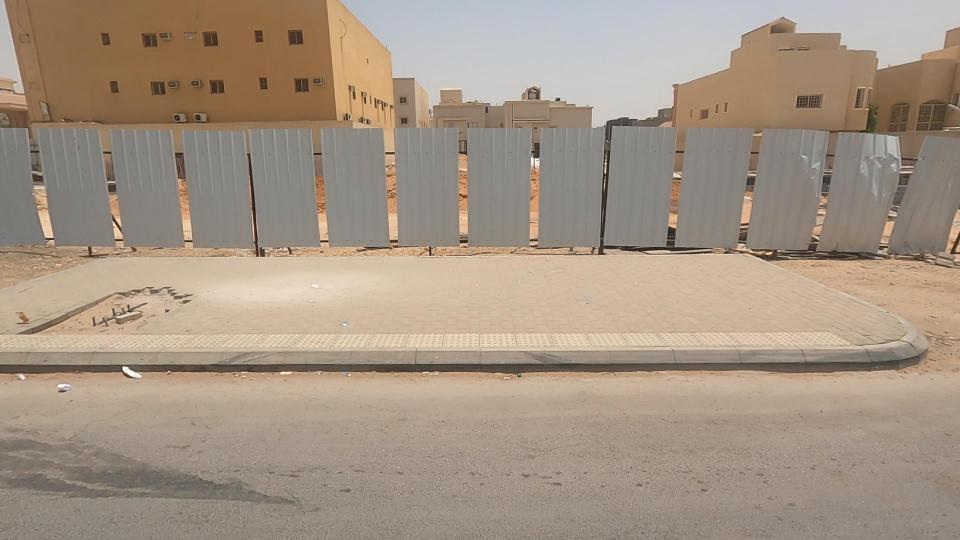GARBAGE: (81, 345, 168, 393), (23, 362, 96, 411)
